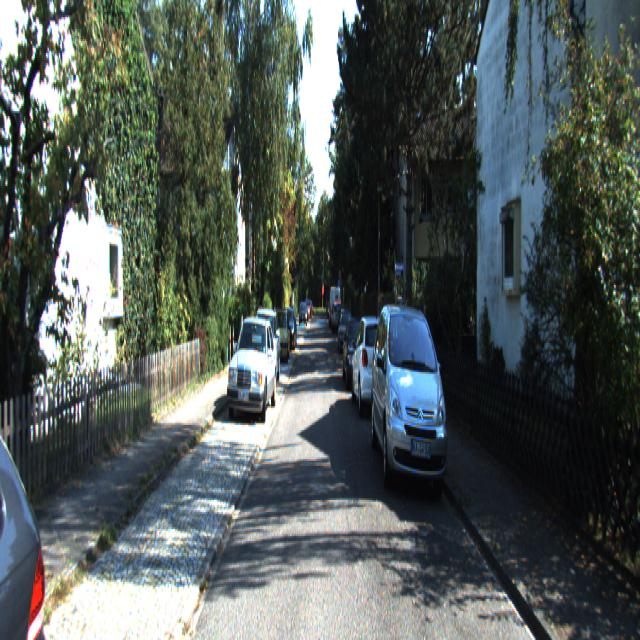Car: (371, 302, 452, 504), (224, 317, 275, 429), (350, 310, 396, 419), (342, 309, 376, 392), (270, 309, 290, 365)
